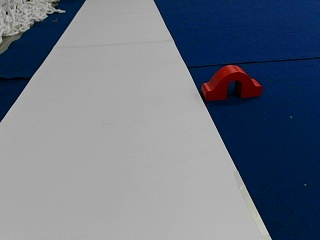bridge: (203, 65, 261, 98)
